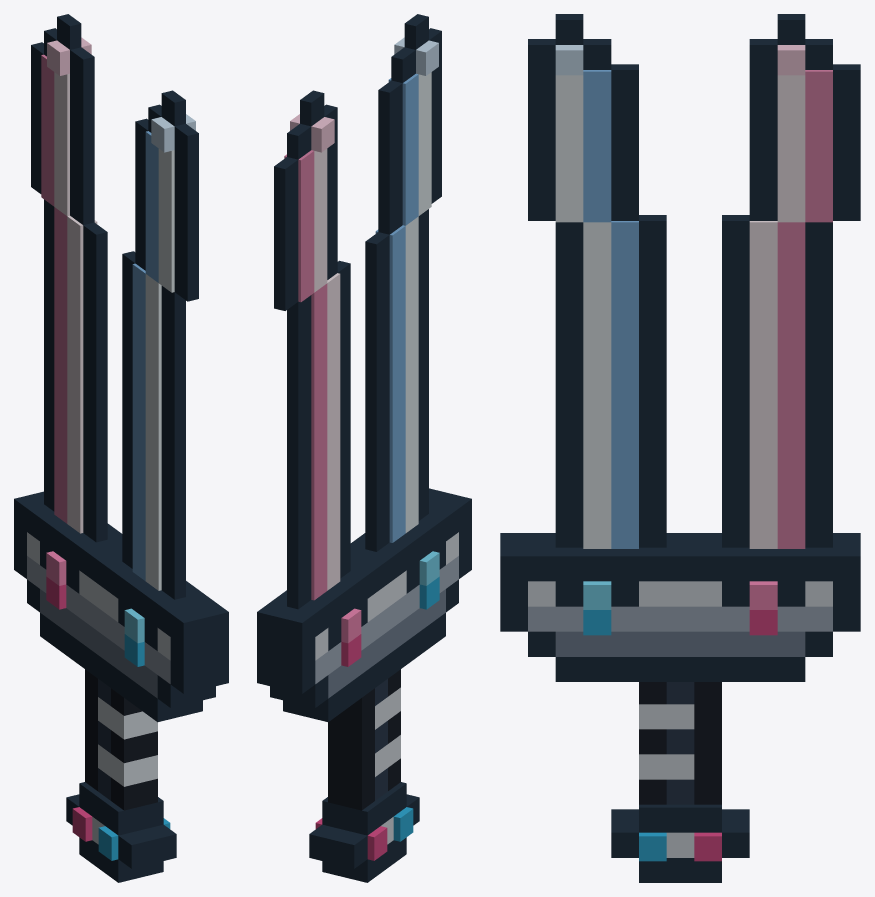
Rendered from sword_twin.glb.
The picture shows the model from 3 angles, left to right: view 1: azimuth 30°, elevation 25°; view 2: azimuth 150°, elevation 25°; view 3: azimuth 270°, elevation 25°; orthographic projection. The views are drawn at different scales.
Parts seen in each view (by area): view 1: Blade; view 2: Blade; view 3: Blade.
Part boxes in pixels (x1,y1,x2,y2): Blade: (14,14,228,882); Blade: (257,14,471,882); Blade: (500,14,860,882).
Size of the model in its own units: 0.0918 by 1.2 by 0.4588.
